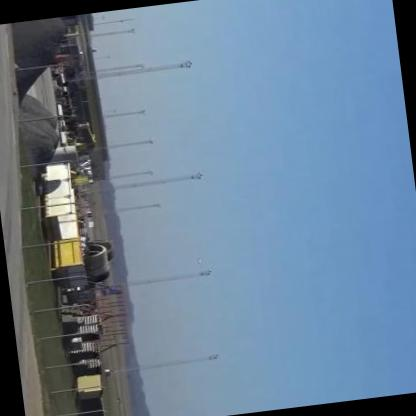plane: (194, 257, 203, 266)
